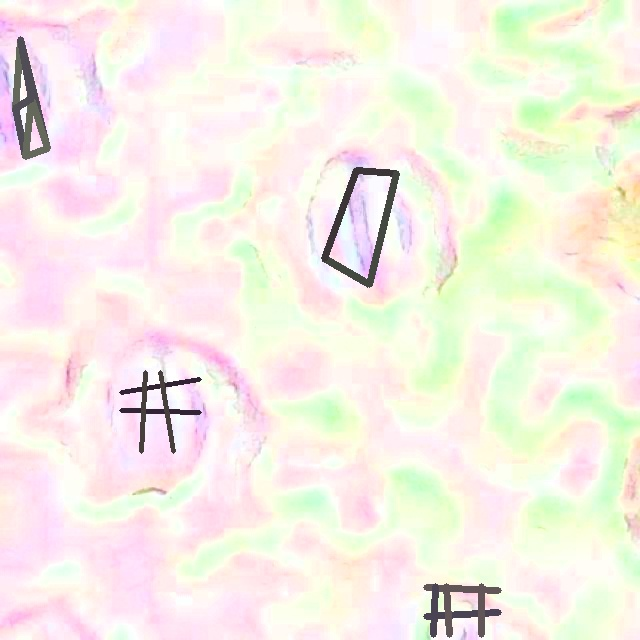close: (119, 370, 201, 453)
open: (322, 168, 398, 286), (12, 36, 50, 159), (424, 583, 501, 637)
